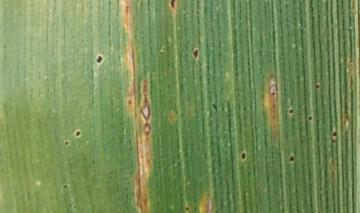tarspot: (169, 1, 176, 9), (192, 49, 198, 58), (95, 56, 102, 63), (74, 130, 79, 137), (240, 153, 245, 160), (289, 156, 294, 162), (315, 84, 320, 90), (332, 130, 337, 136), (307, 116, 312, 121), (331, 138, 336, 143), (62, 185, 68, 189), (288, 109, 293, 113), (185, 207, 189, 212), (64, 141, 67, 146)
